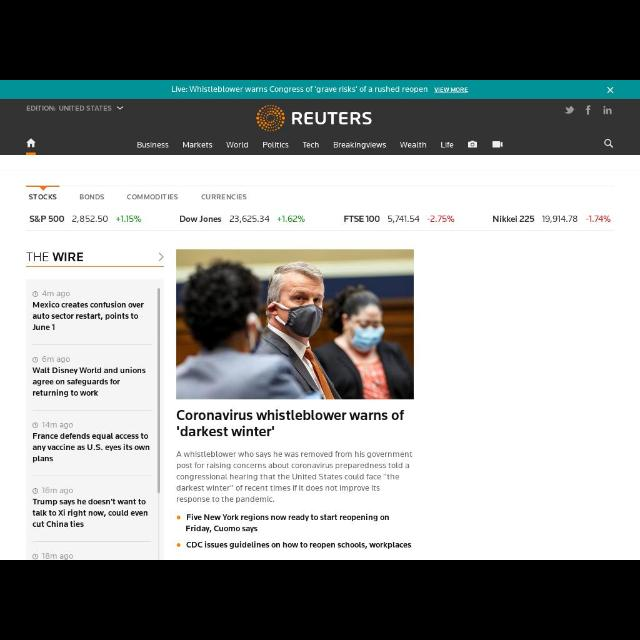icon: (604, 139, 614, 149), (26, 138, 36, 148), (492, 142, 503, 148), (606, 86, 614, 94), (467, 142, 477, 148), (158, 252, 164, 262), (33, 291, 39, 297), (32, 357, 38, 363), (32, 423, 38, 429), (32, 488, 38, 494), (116, 106, 124, 110), (32, 554, 38, 558)
iframe: (1, 80, 639, 98)
image: (176, 249, 414, 399), (251, 101, 375, 132), (602, 105, 612, 115), (565, 106, 575, 114), (585, 106, 591, 116)
multitab: (27, 188, 249, 206), (138, 142, 454, 148)
spinner: (26, 105, 124, 112)
text: (176, 451, 412, 503), (176, 409, 404, 436), (187, 514, 389, 532), (32, 433, 150, 463), (32, 367, 146, 397), (33, 301, 144, 331), (32, 499, 148, 527), (172, 86, 468, 94), (186, 541, 412, 549), (26, 252, 84, 262), (26, 105, 112, 111), (334, 142, 386, 150), (230, 215, 270, 223), (126, 194, 178, 200), (180, 215, 222, 222), (493, 215, 535, 222), (72, 216, 108, 224), (202, 194, 246, 200), (388, 215, 420, 223), (344, 215, 380, 222), (542, 215, 578, 222), (30, 215, 64, 222), (42, 356, 70, 364), (277, 215, 305, 222), (137, 142, 169, 148), (42, 422, 74, 428), (42, 488, 74, 494), (42, 553, 74, 559), (116, 215, 142, 222), (428, 215, 454, 222), (586, 215, 612, 222), (183, 142, 213, 148), (28, 194, 58, 200), (42, 292, 70, 298), (399, 142, 426, 148), (263, 142, 289, 148), (80, 194, 104, 200), (226, 142, 248, 148), (302, 142, 320, 148), (440, 142, 454, 148)
toolbar: (1, 100, 639, 154)
